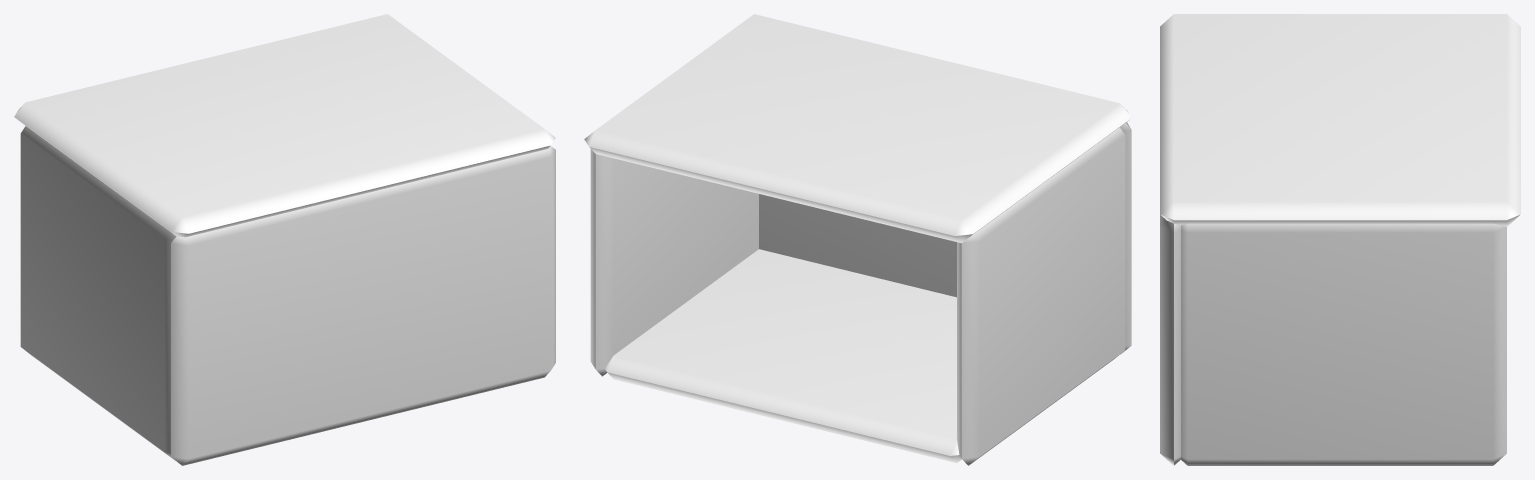
Rendered from bag_box.glb.
The picture shows the model from 3 angles, left to right: view 1: azimuth 30°, elevation 25°; view 2: azimuth 150°, elevation 25°; view 3: azimuth 270°, elevation 25°; orthographic projection. The views are drawn at different scales.
Visible parts, largest first — view 1: BagBox; view 2: BagBox; view 3: BagBox.
Part boxes in pixels (x1=…): BagBox: x1=14, y1=14, x2=555, y2=465; BagBox: x1=584, y1=14, x2=1131, y2=465; BagBox: x1=1160, y1=14, x2=1520, y2=465.
Bounding box in the file's own units: 0.34 × 0.21 × 0.26.
Materials: 1 (1 with a texture image).
